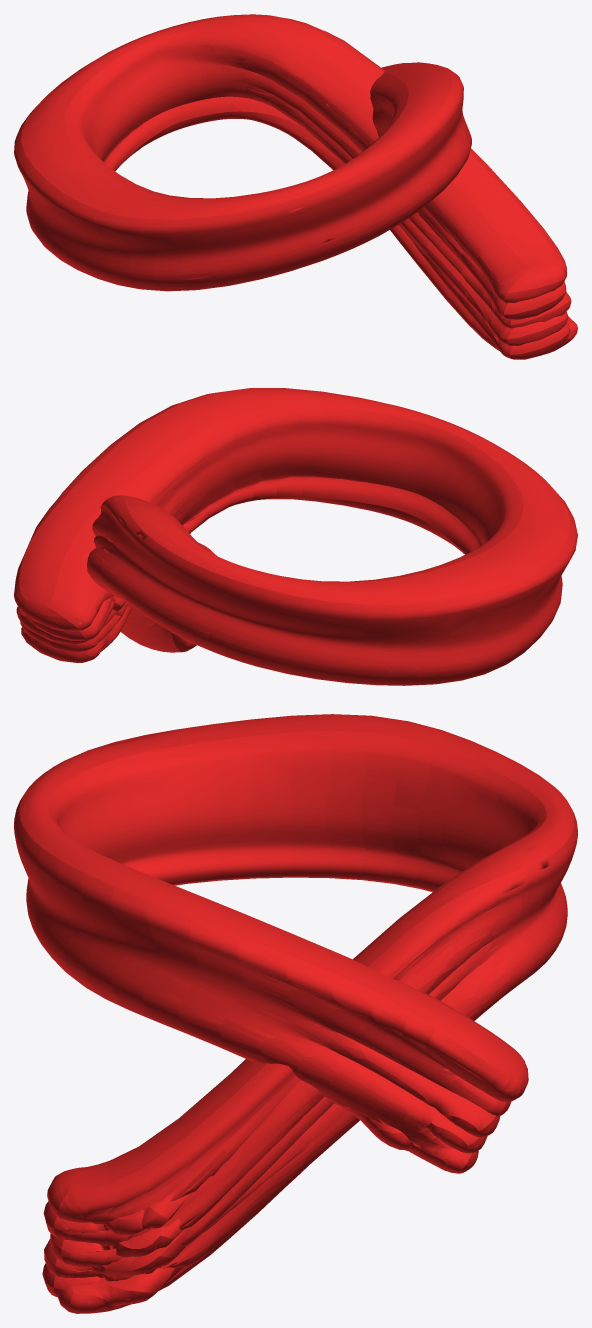
The model's file is red_scarf.glb.
The picture shows the model from 3 angles, top to bottom: view 1: azimuth 30°, elevation 25°; view 2: azimuth 150°, elevation 25°; view 3: azimuth 270°, elevation 25°; orthographic projection. The views are drawn at different scales.
Visible parts, largest first — view 1: Plane; view 2: Plane; view 3: Plane.
Boxes of the visible parts, x1,y1,x2,y2 form: Plane: [14, 14, 577, 359]; Plane: [14, 388, 577, 685]; Plane: [14, 714, 577, 1313].
Size of the model in its own units: 6.51 by 3.51 by 4.92.
